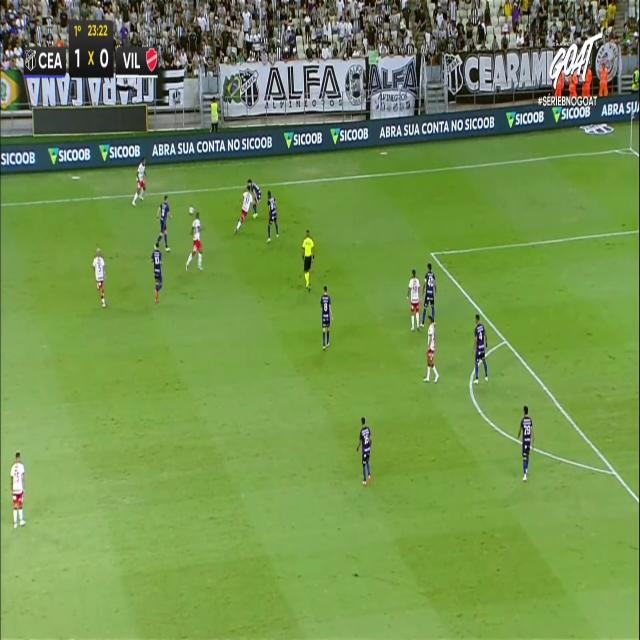ball: (189, 205, 195, 216)
player: (235, 180, 259, 234), (9, 451, 25, 528), (517, 404, 533, 480), (419, 264, 437, 328), (186, 210, 204, 271), (356, 416, 372, 484), (472, 314, 488, 382), (423, 315, 439, 382), (155, 193, 172, 250), (92, 246, 106, 307), (408, 269, 421, 331), (320, 285, 332, 349), (132, 156, 147, 206), (150, 241, 162, 303), (248, 177, 263, 224), (266, 190, 278, 242)
referee: (302, 229, 314, 291)
